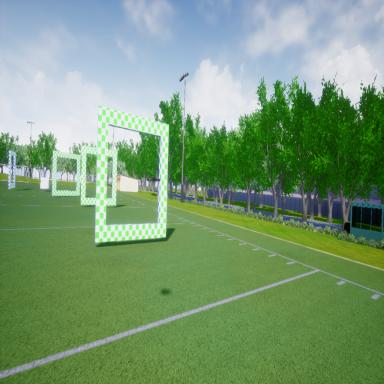gate: (93, 98, 171, 250), (79, 142, 120, 210), (51, 145, 81, 200)
